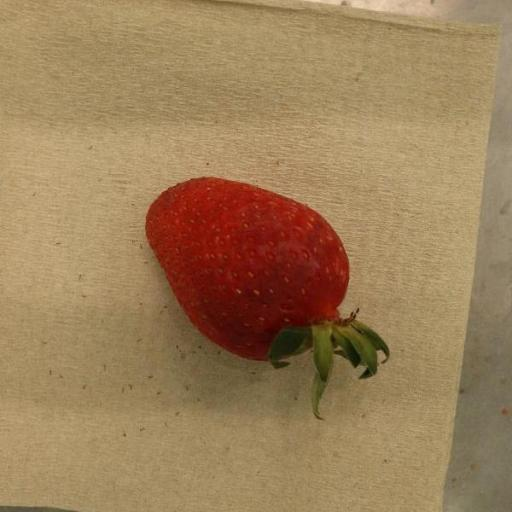Strawberry: (145, 176, 390, 418)
